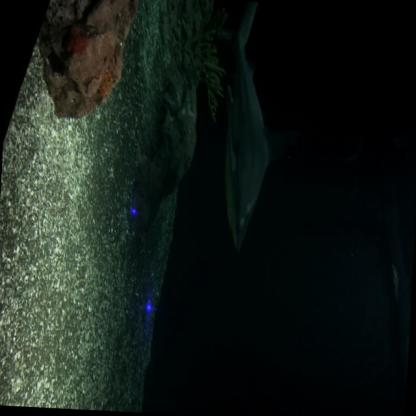shark: (204, 0, 306, 258)
